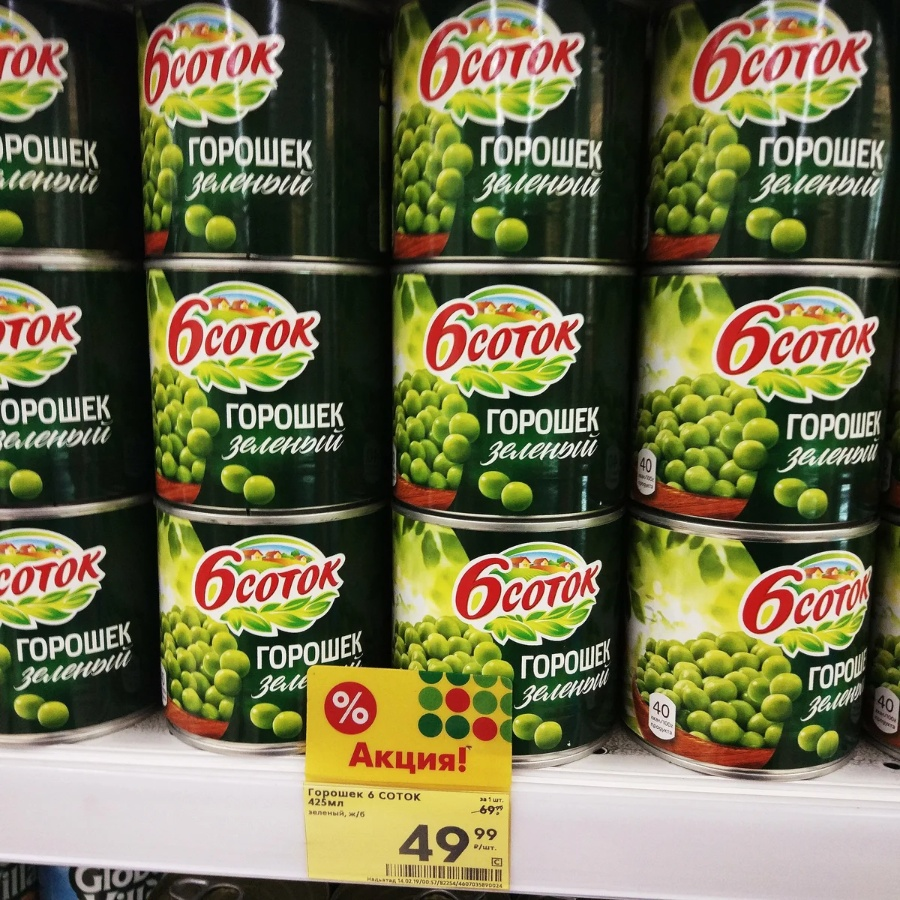peas: (379, 1, 661, 288), (621, 252, 900, 540), (134, 1, 399, 283), (636, 2, 900, 280), (129, 261, 411, 517), (383, 259, 654, 525), (610, 514, 879, 778)
